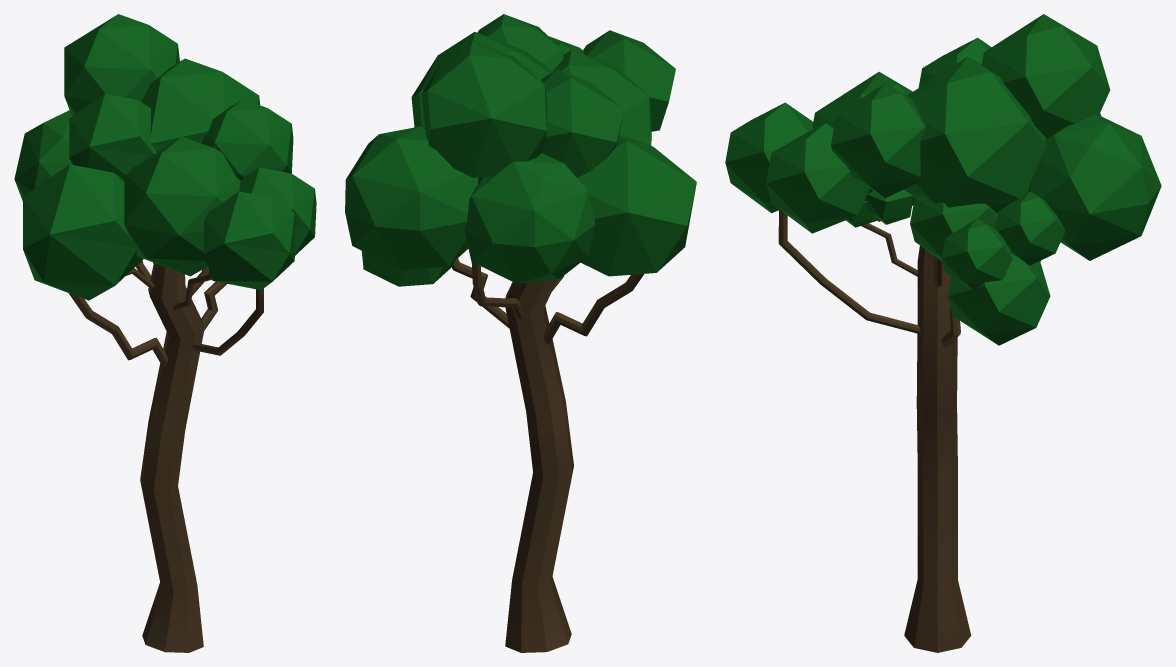
The model's file is Tree.fbx.
3 renders of one model, left to right at view 1: azimuth 30°, elevation 25°; view 2: azimuth 150°, elevation 25°; view 3: azimuth 270°, elevation 25°, orthographic. The views are drawn at different scales.
Visible parts, largest first — view 1: Tree; view 2: Tree; view 3: Tree.
Boxes of the visible parts, x1,y1,x2,y2 form: Tree: [14, 14, 316, 652]; Tree: [345, 14, 696, 652]; Tree: [725, 14, 1161, 652].
Bounding box in the file's own units: 120 × 239 × 154.
